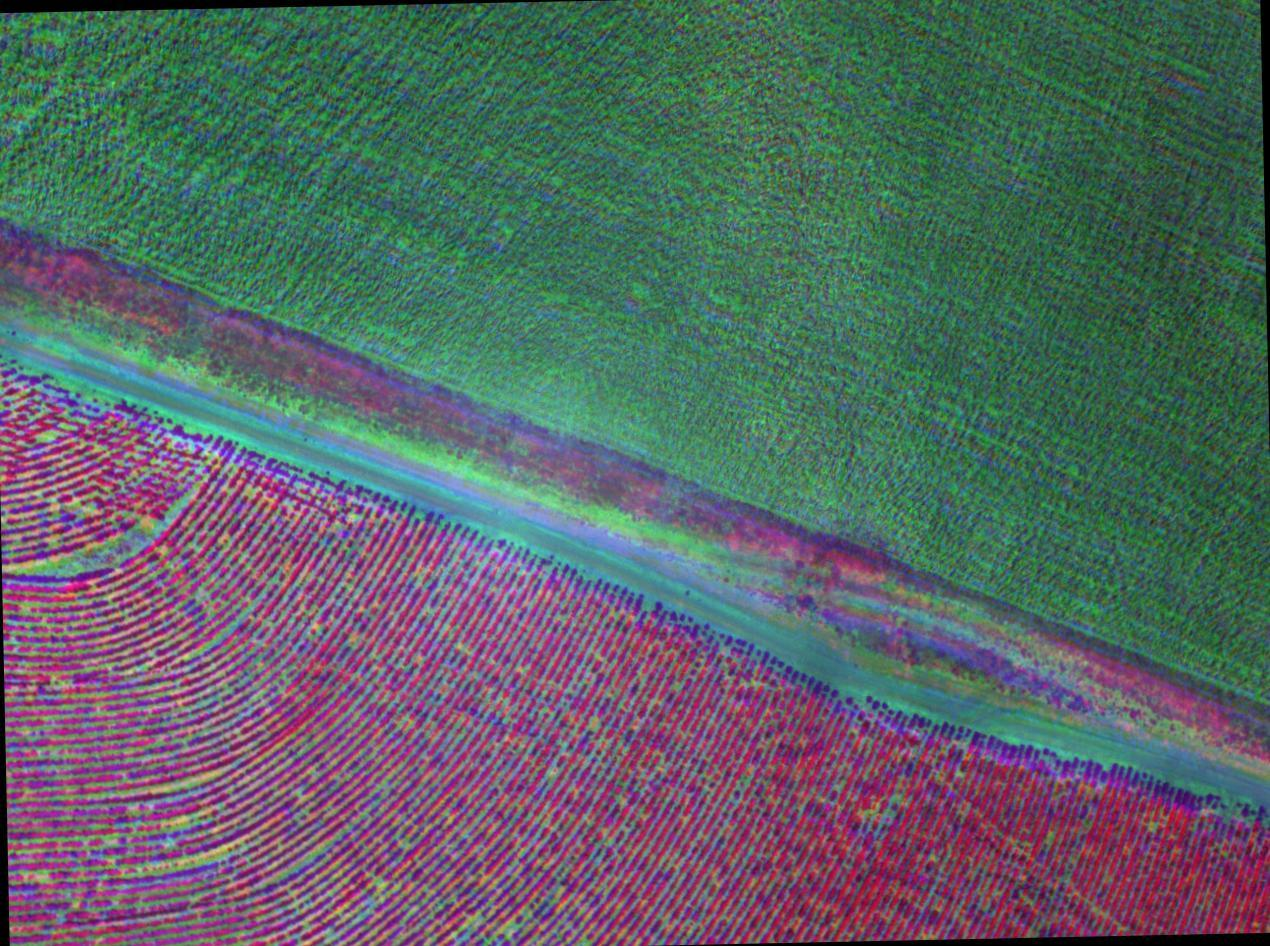dc: (13, 475, 216, 584), (88, 783, 221, 883), (281, 850, 379, 932), (216, 598, 299, 686), (398, 533, 486, 605), (26, 385, 97, 450)
